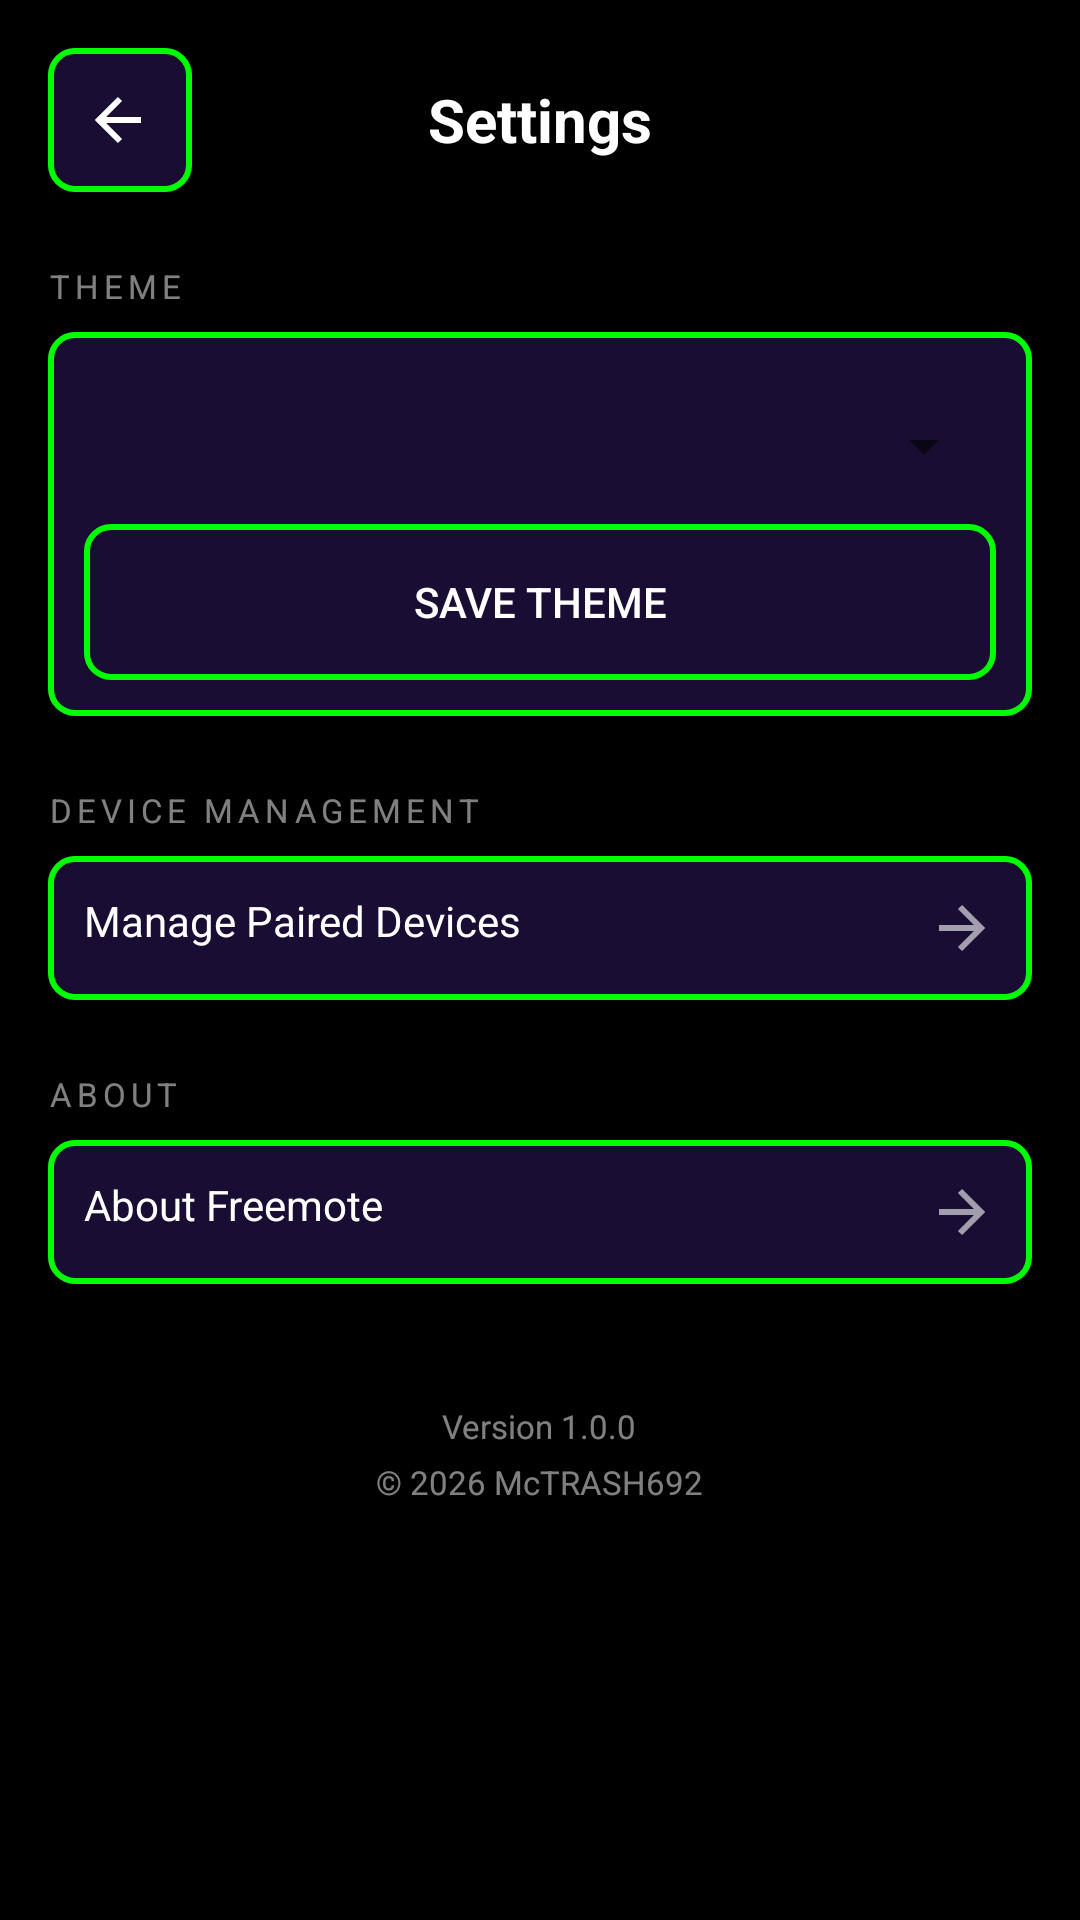

Point at icon controls on the screen. Image size 1080px×1920px, points as [x,y].
arrow right: [962,928], [962,1212]
Back: [120,120]
